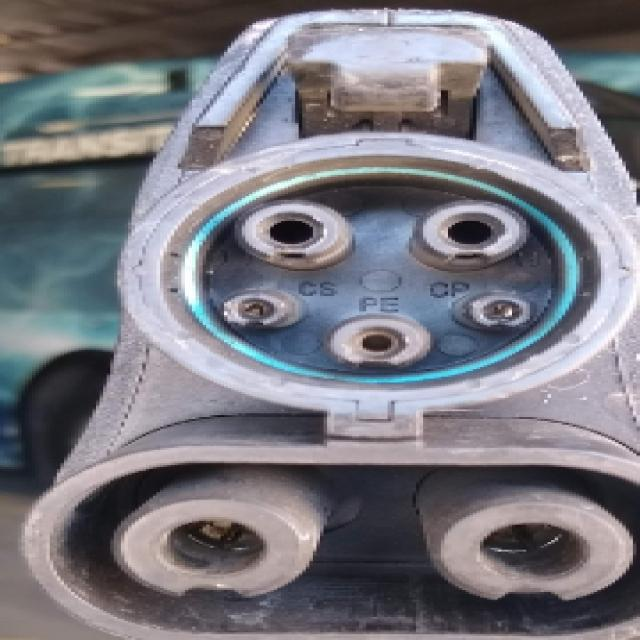CCS1: (63, 151, 640, 634)
